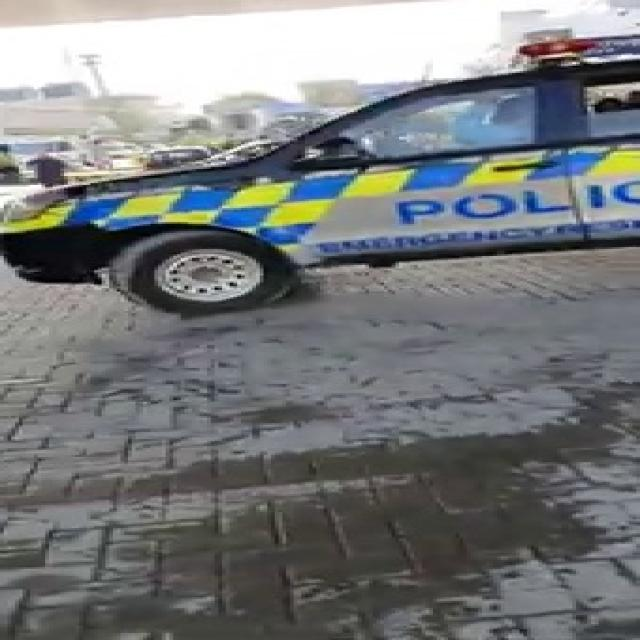police: (0, 1, 640, 311)
